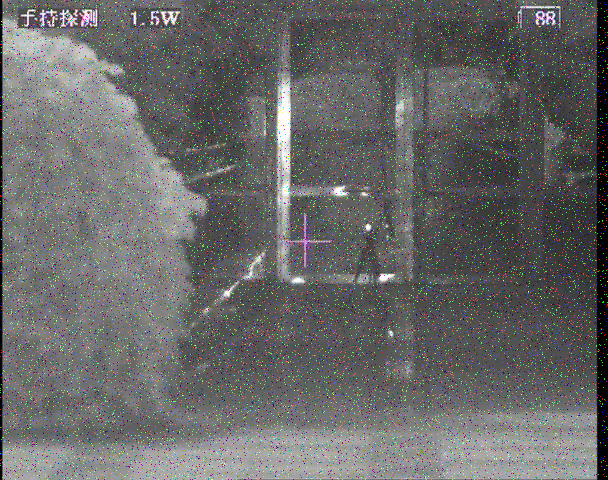my: (364, 222, 372, 232)
